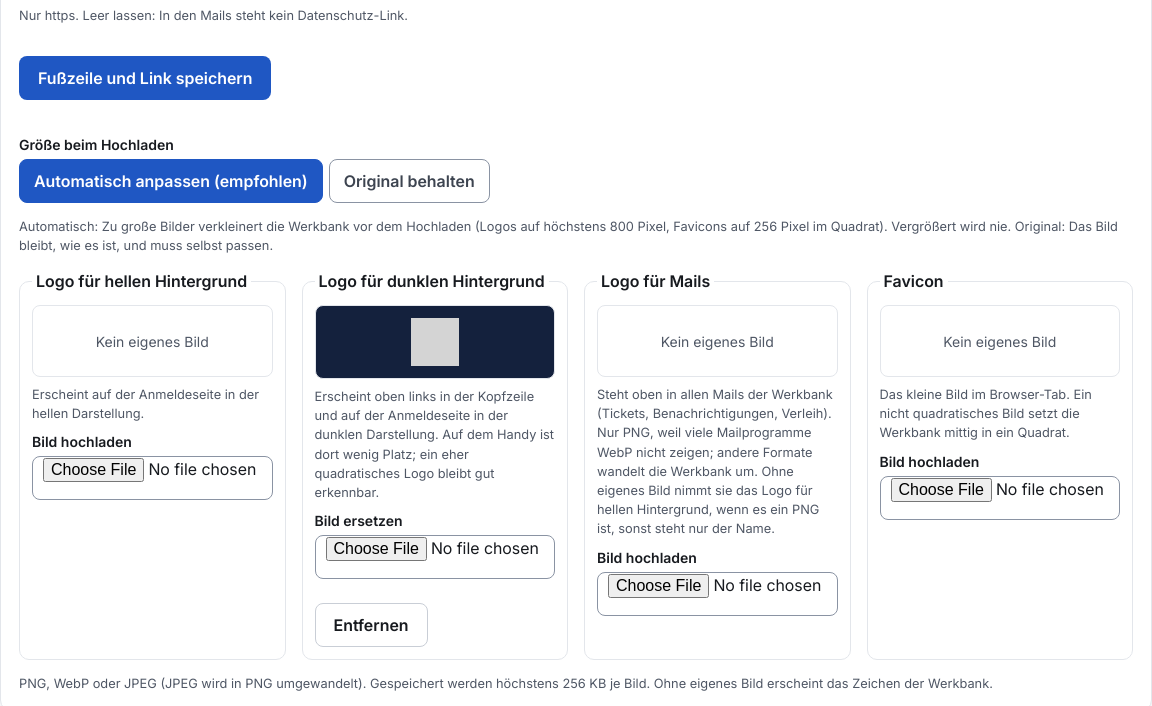
Scenario: BrandingSettings › entfernt ein Bild und zeigt die Meldung des Servers bei Fehlern
(page scrolled)
Click the button named "Entfernen – Logo für dunklen Hintergrund" at (371, 625), box [314,603,428,647]
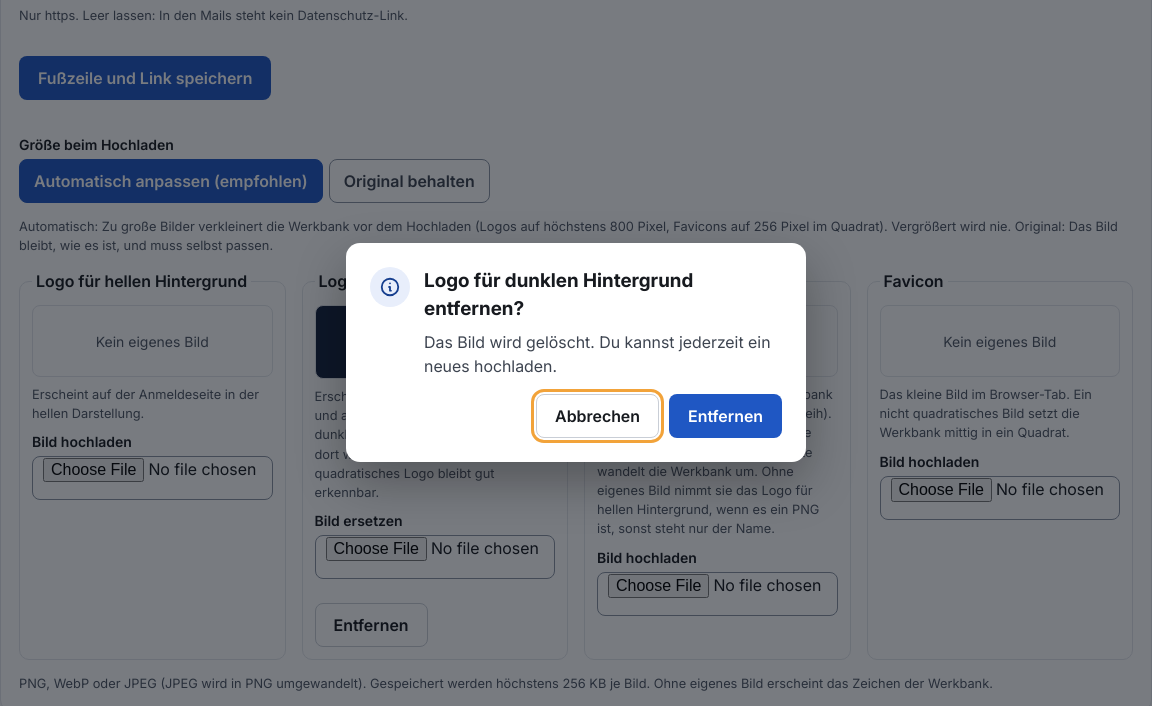
Click the button "Entfernen" at (726, 416), box [669,394,782,438]
(page scrolled)
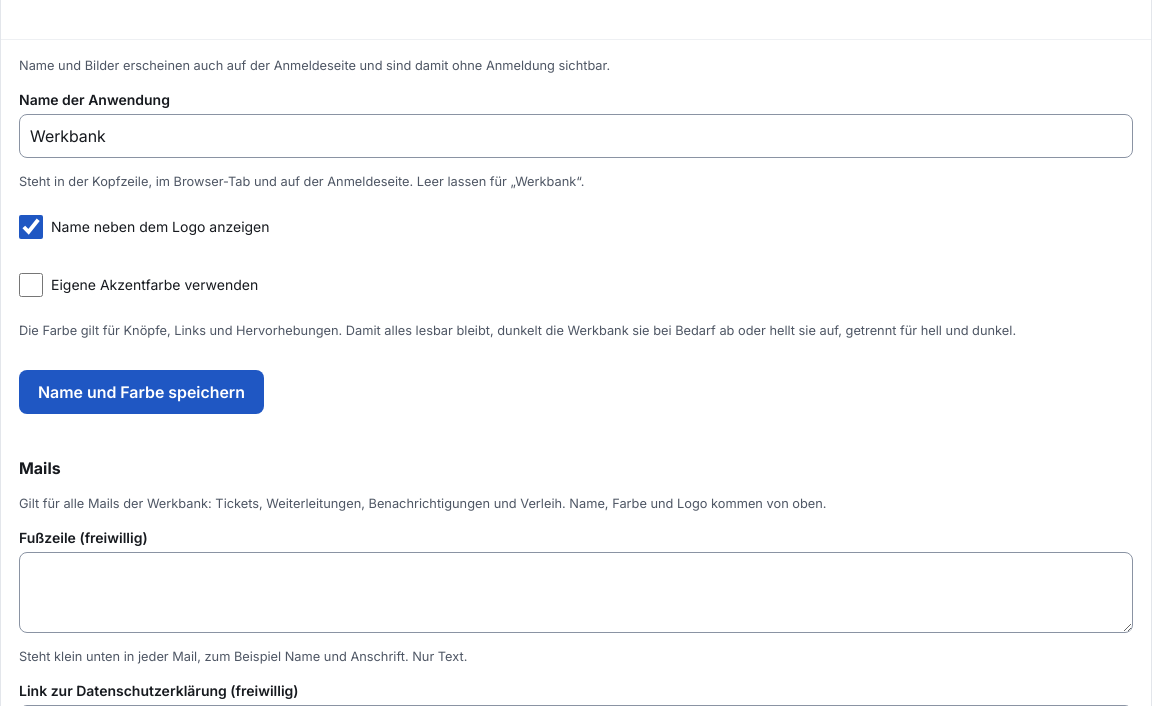
Click the button "Name und Farbe speichern" at (142, 392), box [19,370,264,414]
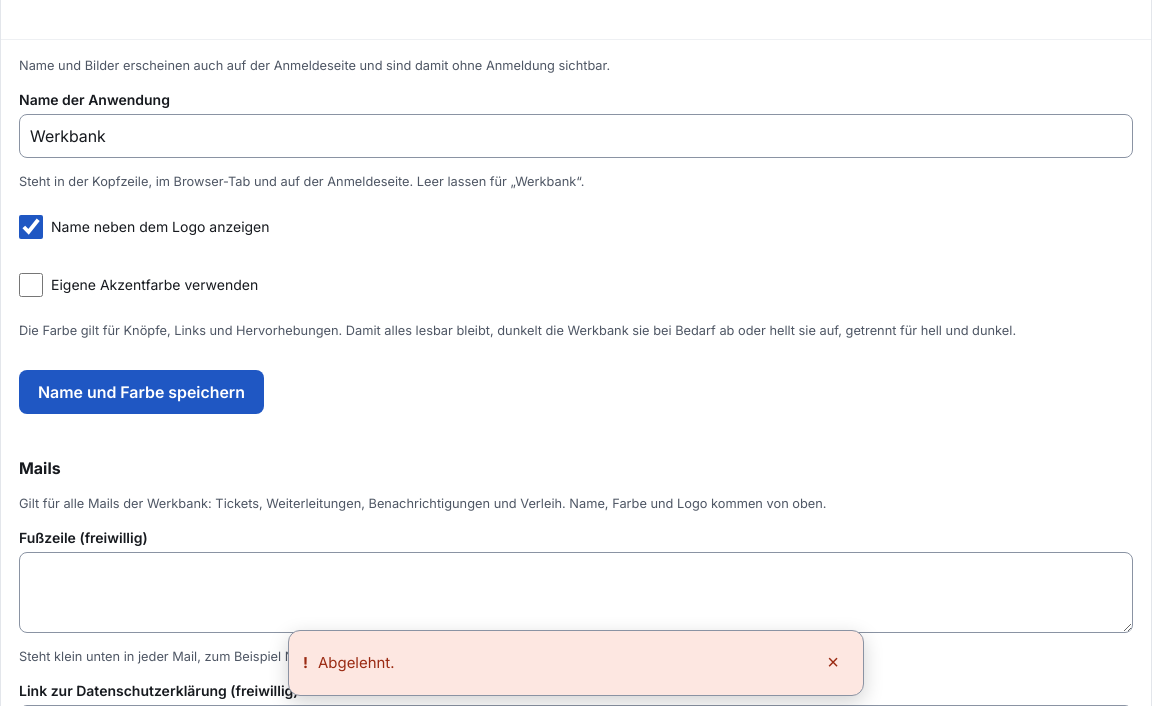
Expected: the message shows "Abgelehnt.", [318,652,394,672]
